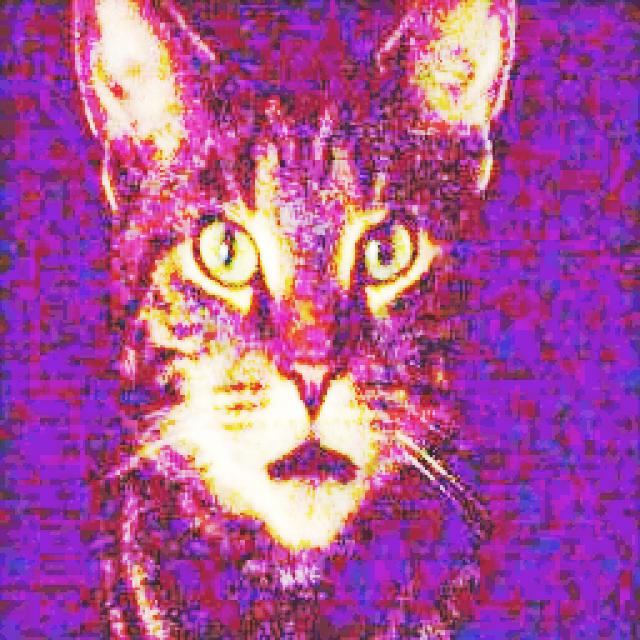cat: (69, 12, 517, 640)
